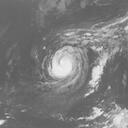cyclone: (40, 34, 90, 87)
